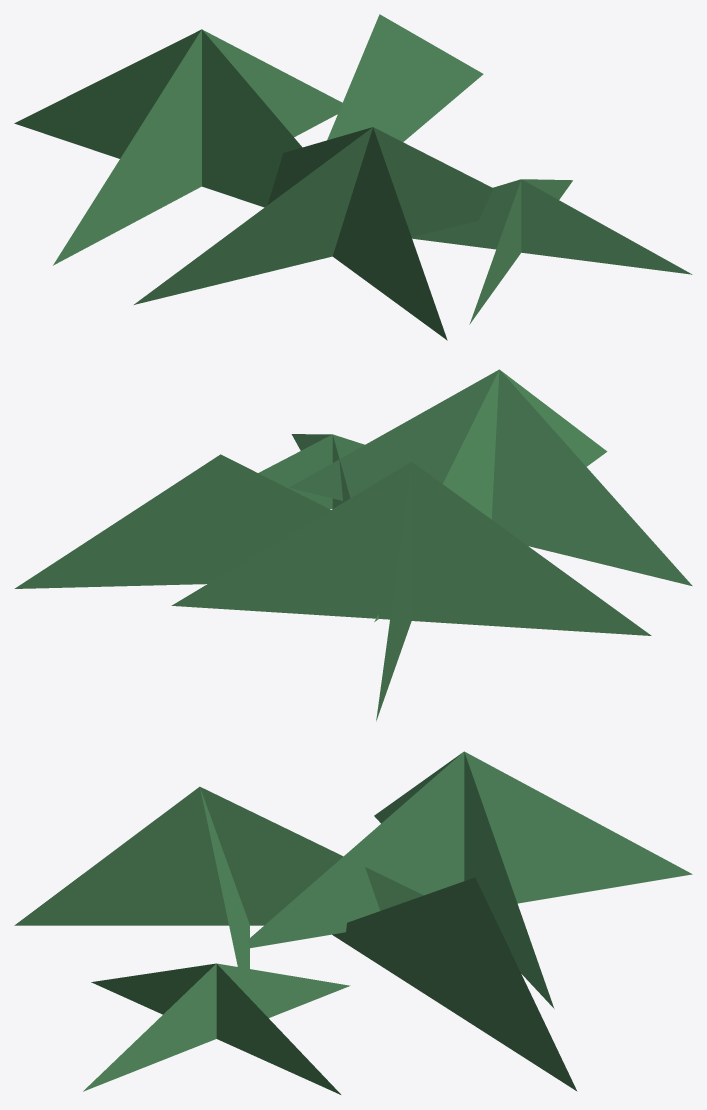
File: TallGrass01.fbx
3 renders of one model, top to bottom at view 1: azimuth 30°, elevation 25°; view 2: azimuth 150°, elevation 25°; view 3: azimuth 270°, elevation 25°, orthographic. The views are drawn at different scales.
Parts seen in each view (by area): view 1: GrassCluster01; view 2: GrassCluster01; view 3: GrassCluster01.
Boxes of the visible parts, x1,y1,x2,y2 form: GrassCluster01: (14,14,692,340); GrassCluster01: (14,369,692,721); GrassCluster01: (14,751,692,1094).
Bounding box in the file's own units: 0.6648 × 0.2197 × 0.7188.
